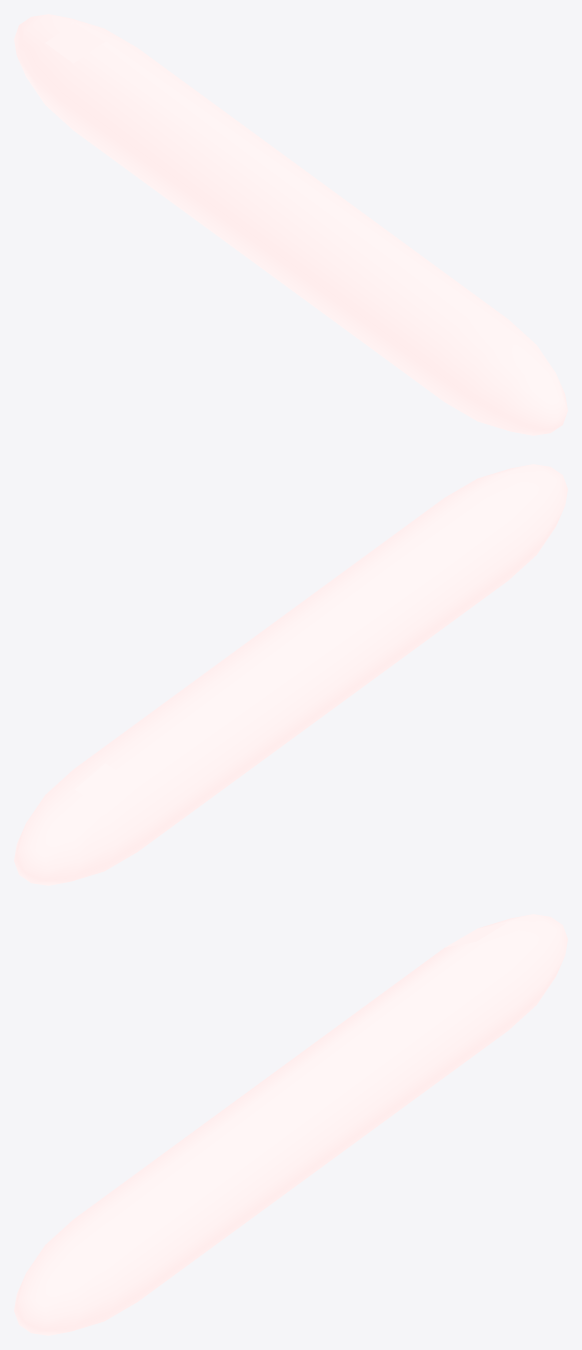
File: EnemyProjectile_RedLaser.dae
3 renders of one model, top to bottom at view 1: azimuth 30°, elevation 25°; view 2: azimuth 150°, elevation 25°; view 3: azimuth 330°, elevation 25°, orthographic.
Parts seen in each view (by area): view 1: polySurface2; view 2: polySurface2; view 3: polySurface2.
Part boxes in pixels (left/top/right/bottom): polySurface2: left=14, top=14, right=567, bottom=435; polySurface2: left=14, top=464, right=567, bottom=885; polySurface2: left=14, top=914, right=567, bottom=1335.
Bounding box in the file's own units: 0.5881 × 0.5881 × 5.97.
1 material, 1 textured.
